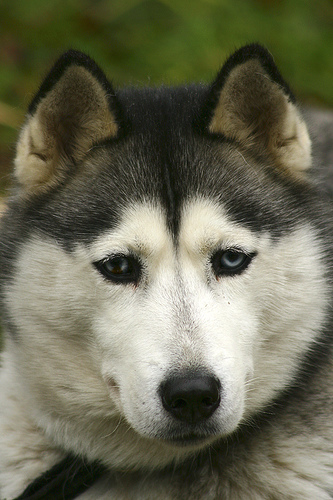dog: (2, 36, 330, 498)
